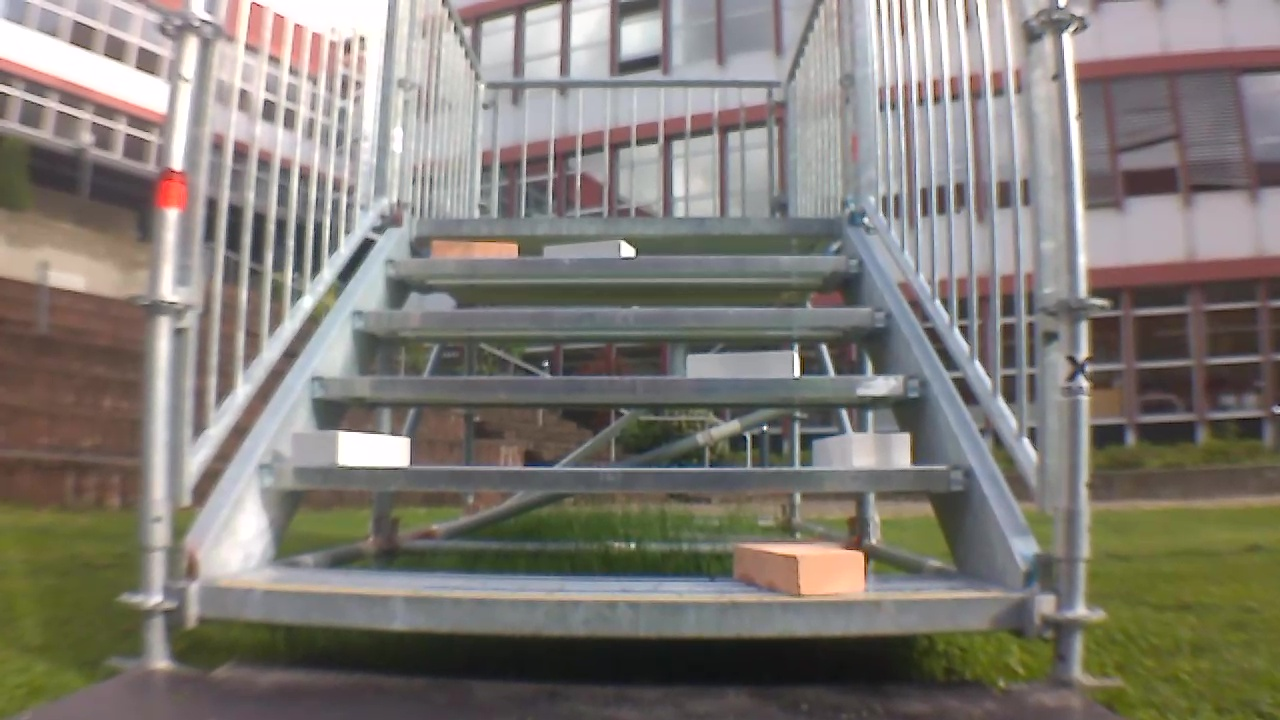brick: (737, 543, 863, 594), (291, 431, 410, 465), (688, 349, 799, 377), (814, 434, 909, 466), (544, 239, 636, 257), (432, 240, 515, 257)
edge: (201, 588, 1023, 636), (259, 462, 972, 490), (312, 375, 929, 399), (351, 306, 889, 328), (390, 255, 865, 273), (416, 216, 844, 234)
stairs: (121, 4, 1106, 688)
steps: (192, 210, 1033, 645)
